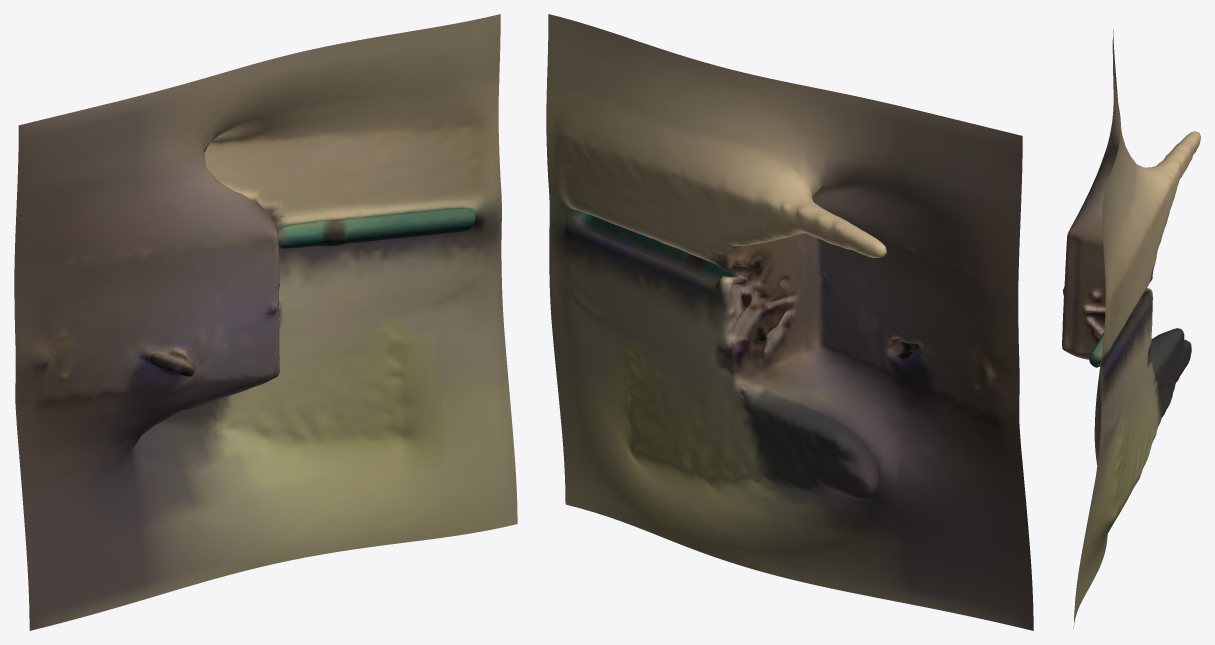
3 views of the same model, side by side, from view 1: azimuth 30°, elevation 25°; view 2: azimuth 150°, elevation 25°; view 3: azimuth 270°, elevation 25° (orthographic). The views are drawn at different scales.
Bounding box in the file's own units: 0.6856 × 0.6856 × 0.2052.
